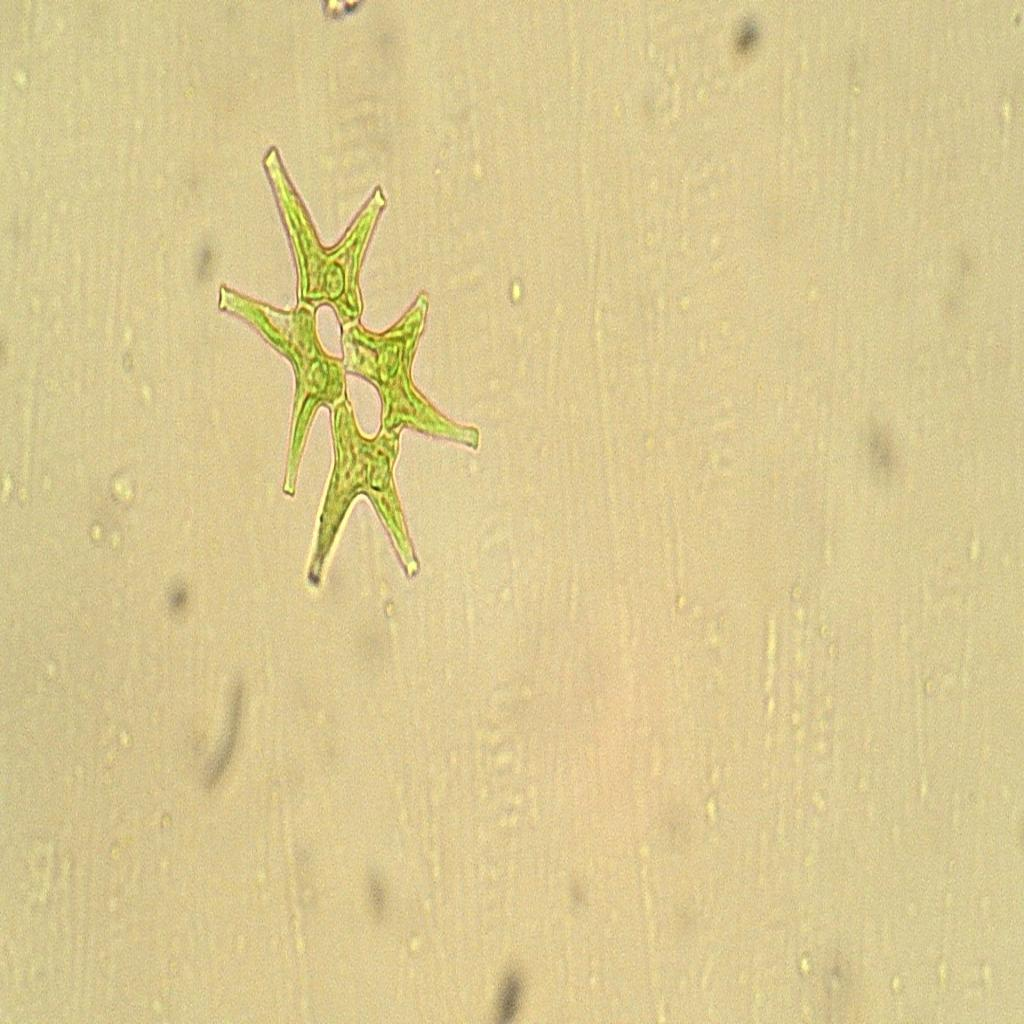Pediastrum_CF: (205, 130, 486, 606)
